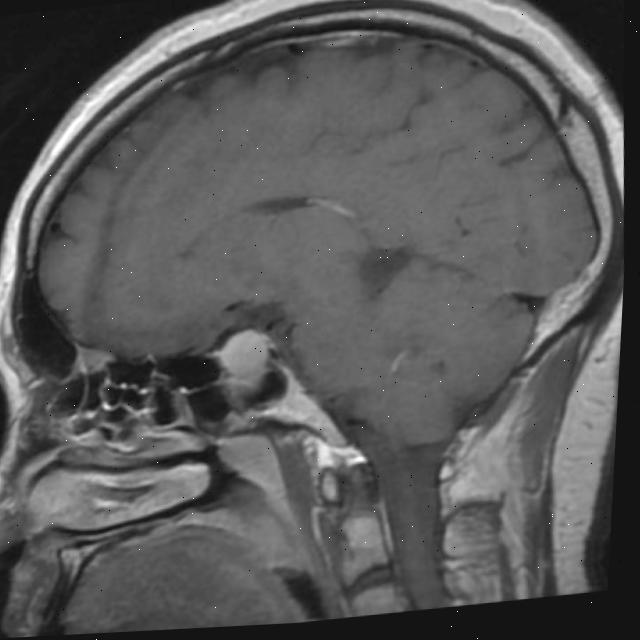Pituitary: (214, 324, 272, 398)
